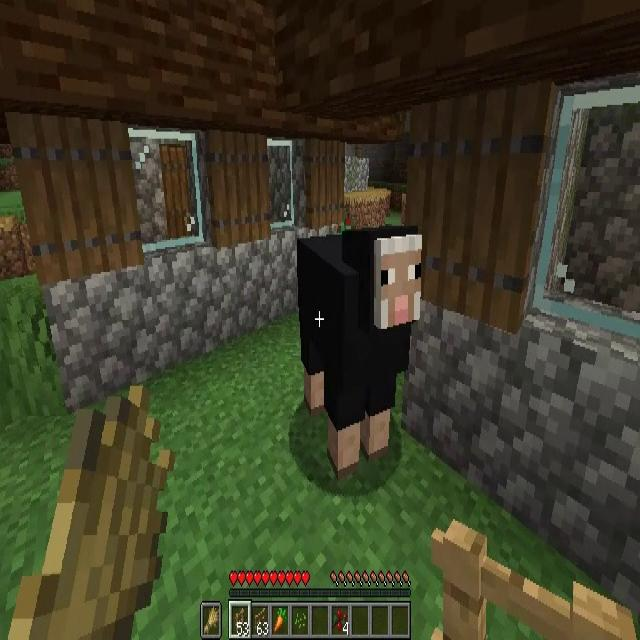sheep: (298, 229, 419, 477)
